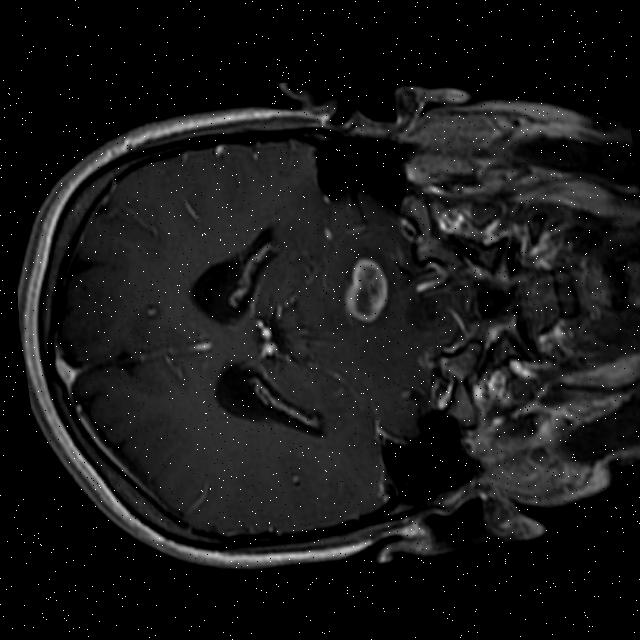Glioma: (334, 254, 394, 327)
